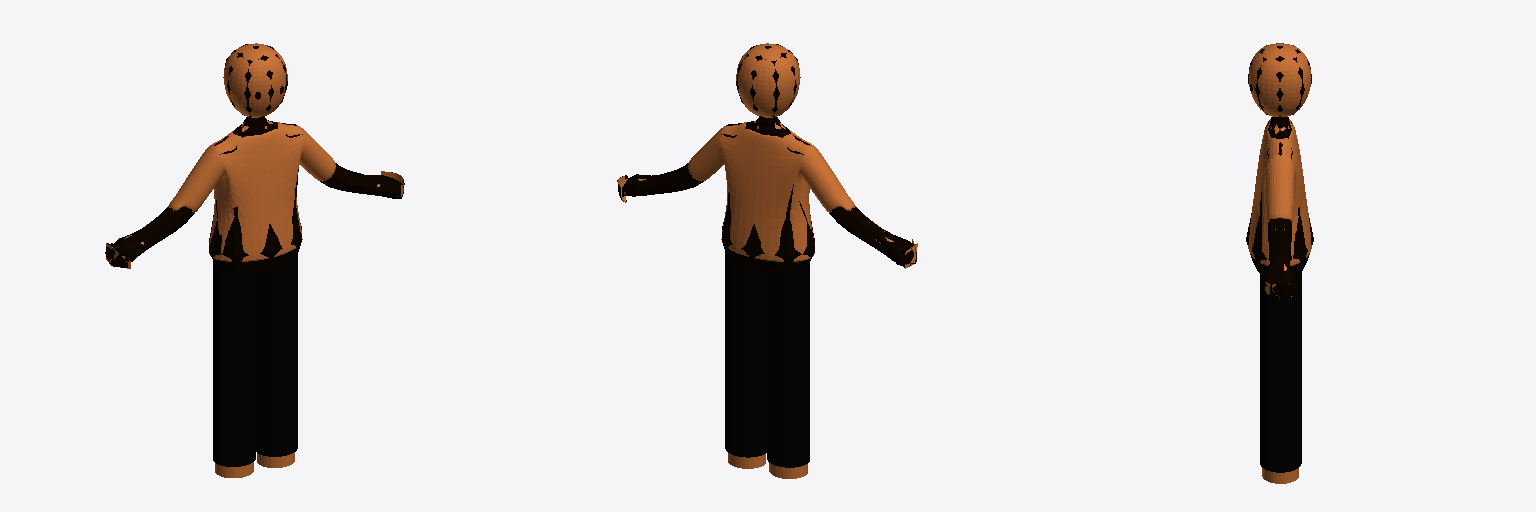
File: human.obj
3 views of the same model, side by side, from view 1: azimuth 30°, elevation 25°; view 2: azimuth 150°, elevation 25°; view 3: azimuth 270°, elevation 25° (orthographic).
Visible parts, largest first — view 1: legs, clothes, body_backup, head; view 2: legs, clothes, body_backup, head; view 3: legs, clothes, body_backup, head.
Part boxes in pixels (left/top/right/bottom): legs: left=213, top=256, right=297, bottom=477; clothes: left=169, top=122, right=335, bottom=261; body_backup: left=105, top=117, right=404, bottom=272; head: left=224, top=43, right=287, bottom=117; legs: left=725, top=252, right=809, bottom=478; clothes: left=688, top=122, right=854, bottom=261; body_backup: left=617, top=117, right=916, bottom=272; head: left=736, top=43, right=799, bottom=117; legs: left=1260, top=268, right=1301, bottom=483; clothes: left=1248, top=119, right=1311, bottom=265; body_backup: left=1246, top=117, right=1313, bottom=298; head: left=1249, top=43, right=1310, bottom=116.
Bounding box in the file's own units: 1.53 × 2.08 × 0.308.